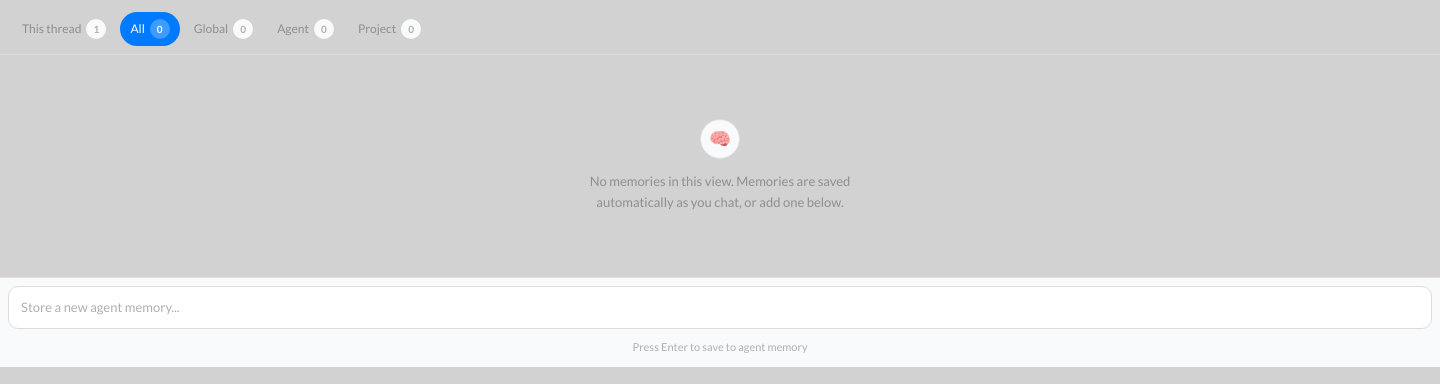
MemoryPanel — This thread tab › lists thread memories fetched via getThreadMemories when the tab is active
Step 1. Click the button with test id "memory-tab-thread" → {"x": 64, "y": 29}, box [12,12,116,46]
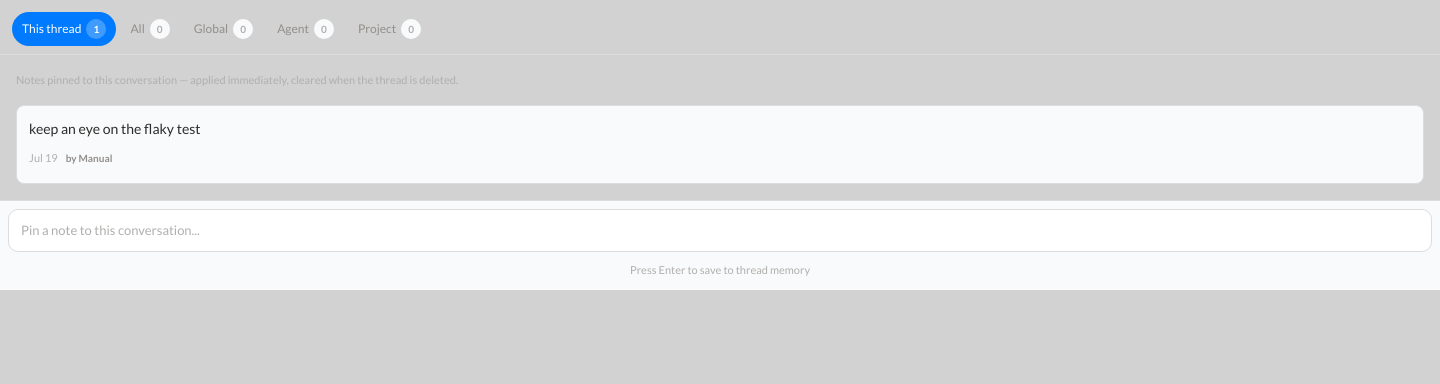
Expected: the text "keep an eye on the flaky test" is shown, [29,120,201,137]
